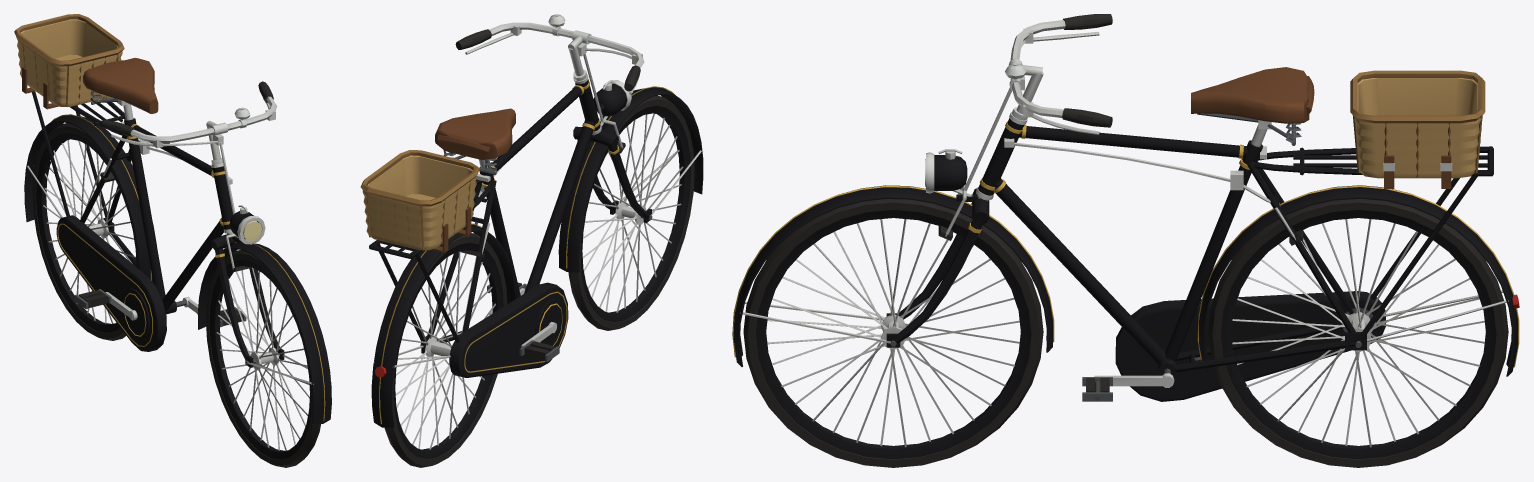
The model's file is Bicycle.glb.
The picture shows the model from 3 angles, left to right: view 1: azimuth 30°, elevation 25°; view 2: azimuth 150°, elevation 25°; view 3: azimuth 270°, elevation 25°; orthographic projection. The views are drawn at different scales.
Parts seen in each view (by area): view 1: Bicycle, Fork, WheelF, WheelR, Cranks; view 2: Bicycle, Fork, WheelF, WheelR, Cranks; view 3: Bicycle, WheelF, WheelR, Fork, Cranks.
Boxes of the visible parts, x1,y1,x2,y2 form: Bicycle: [14, 14, 233, 351]; Fork: [102, 81, 331, 423]; WheelF: [206, 250, 320, 467]; WheelR: [32, 123, 139, 340]; Cranks: [74, 289, 246, 327]; Bicycle: [360, 73, 601, 427]; Fork: [455, 14, 703, 272]; WheelF: [568, 95, 694, 330]; WheelR: [384, 233, 507, 467]; Cranks: [487, 282, 559, 362]; Bicycle: [976, 67, 1519, 401]; WheelF: [743, 199, 1043, 467]; WheelR: [1208, 198, 1508, 467]; Fork: [732, 14, 1112, 366]; Cranks: [1082, 368, 1174, 401].
Size of the model in its own units: 0.6025 by 1.09 by 1.86.
